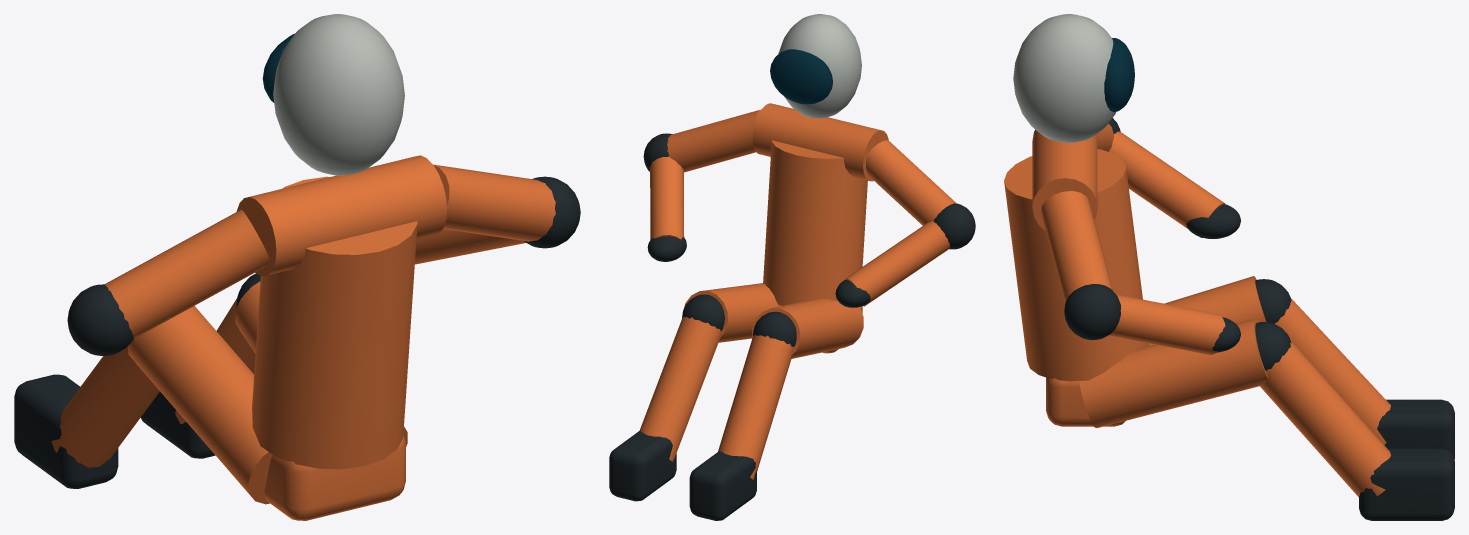
The model's file is cockpit-fit-tall.glb.
3 renders of one model, left to right at view 1: azimuth 30°, elevation 25°; view 2: azimuth 150°, elevation 25°; view 3: azimuth 270°, elevation 25°, orthographic. The views are drawn at different scales.
Visible parts, largest first — view 1: Dummy torso.002, Dummy helmet.002, Dummy shoulder line.002, Dummy thigh.004, Dummy upper arm.004, Dummy shin.004, Dummy upper arm.005, Dummy pelvis.002, Dummy boot.004, Dummy elbow.004, Dummy forearm.005, Dummy boot.005 (+4 smaller); view 2: Dummy torso.002, Dummy shin.004, Dummy shin.005, Dummy shoulder line.002, Dummy helmet.002, Dummy boot.004, Dummy upper arm.004, Dummy thigh.004, Dummy boot.005, Dummy forearm.004, Dummy upper arm.005, Dummy visor.002 (+8 smaller); view 3: Dummy torso.002, Dummy helmet.002, Dummy thigh.005, Dummy shin.005, Dummy boot.005, Dummy upper arm.005, Dummy shin.004, Dummy forearm.004, Dummy forearm.005, Dummy shoulder line.002, Dummy boot.004, Dummy elbow.005 (+7 smaller).
Boxes of the visible parts, <box> form: Dummy torso.002: <box>252,176,417,469</box>; Dummy helmet.002: <box>273,14,404,175</box>; Dummy shoulder line.002: <box>236,155,446,276</box>; Dummy thigh.004: <box>128,306,272,504</box>; Dummy upper arm.004: <box>104,210,269,338</box>; Dummy shin.004: <box>51,346,159,467</box>; Dummy upper arm.005: <box>433,164,555,241</box>; Dummy pelvis.002: <box>264,435,405,520</box>; Dummy boot.004: <box>14,374,118,488</box>; Dummy elbow.004: <box>67,284,133,355</box>; Dummy forearm.005: <box>415,229,525,264</box>; Dummy boot.005: <box>140,391,215,458</box>; Dummy torso.002: <box>763,140,867,305</box>; Dummy shin.004: <box>718,334,793,479</box>; Dummy shin.005: <box>639,316,721,461</box>; Dummy shoulder line.002: <box>752,103,888,181</box>; Dummy helmet.002: <box>778,14,861,118</box>; Dummy boot.004: <box>689,451,756,520</box>; Dummy upper arm.004: <box>866,140,956,225</box>; Dummy thigh.004: <box>752,299,863,358</box>; Dummy boot.005: <box>609,431,676,501</box>; Dummy forearm.004: <box>845,221,950,306</box>; Dummy upper arm.005: <box>667,109,760,172</box>; Dummy visor.002: <box>770,49,832,104</box>; Dummy torso.002: <box>1004,149,1148,381</box>; Dummy helmet.002: <box>1013,14,1115,142</box>; Dummy thigh.005: <box>1079,318,1268,427</box>; Dummy shin.005: <box>1260,340,1390,497</box>; Dummy boot.005: <box>1359,448,1454,520</box>; Dummy upper arm.005: <box>1040,191,1112,303</box>; Dummy shin.004: <box>1274,297,1390,444</box>; Dummy forearm.004: <box>1109,131,1224,237</box>; Dummy forearm.005: <box>1108,294,1225,354</box>; Dummy shoulder line.002: <box>1032,130,1097,230</box>; Dummy boot.004: <box>1377,399,1454,459</box>; Dummy elbow.005: <box>1064,284,1120,339</box>.
Bounding box in the file's own units: 1.21 × 1.36 × 1.17.
